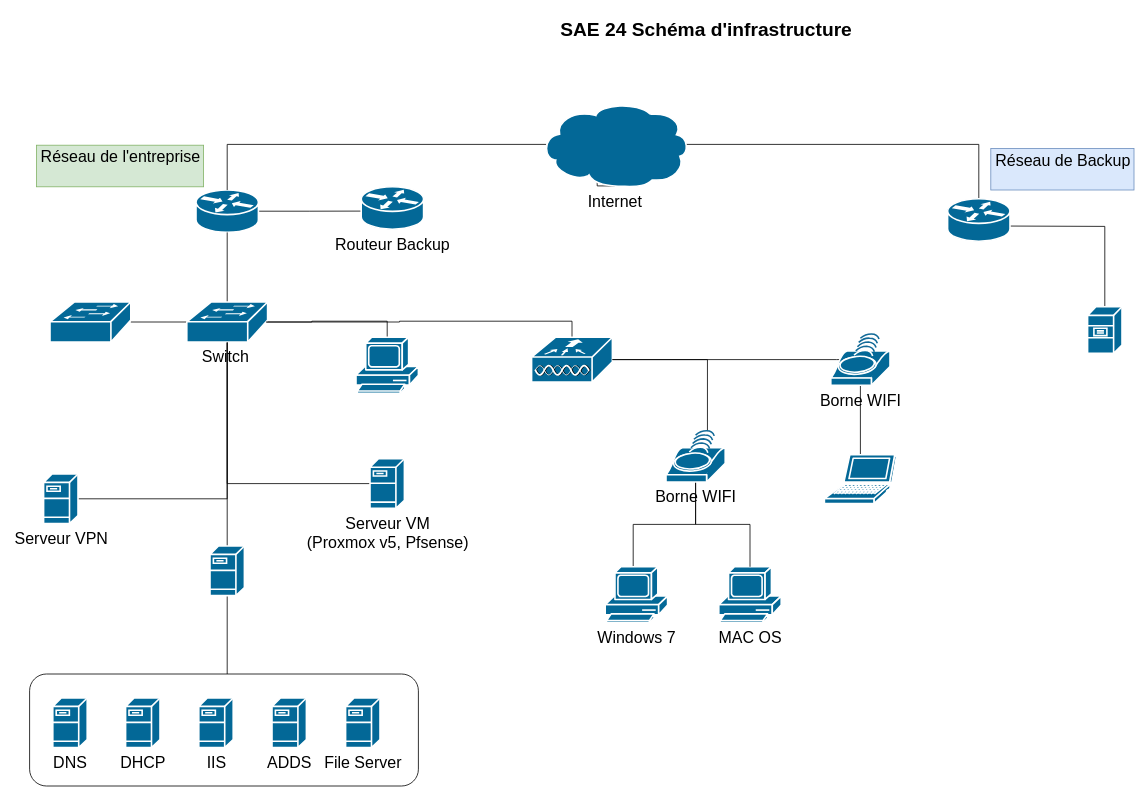
This 1148x800 diagram has some shape labels left out. The centre of each missing label's shape, as x and y in pixels:
"Backup" goes at point (1104, 330).
"Controlleur WIFI" goes at point (571, 359).
"Routeur Proxy + Firewall" goes at point (227, 211).
"Switch Backup" goes at point (90, 321).
"Windows 10" goes at point (860, 479).
"Windows 95 VLAN 95" goes at point (387, 365).
"Windows Server VLAN" goes at point (227, 570).
